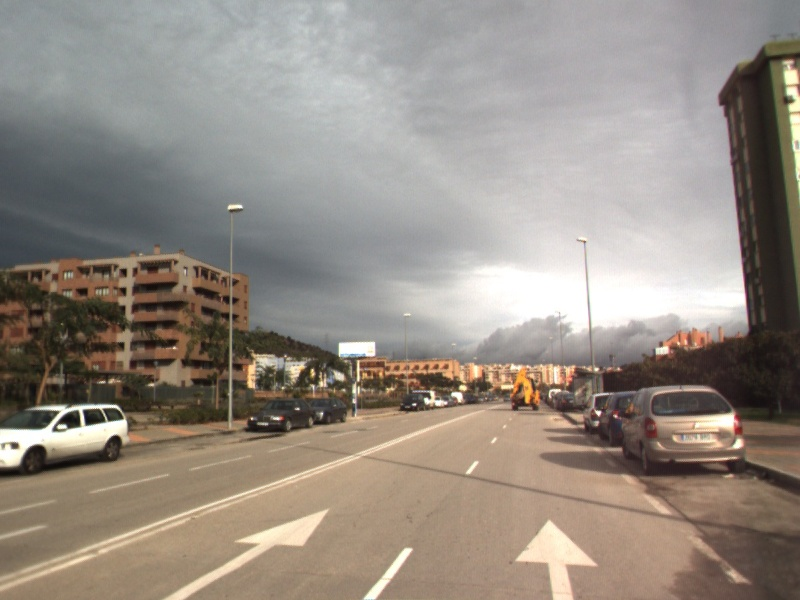STRAIGHT: (159, 506, 332, 600), (512, 517, 601, 600)
